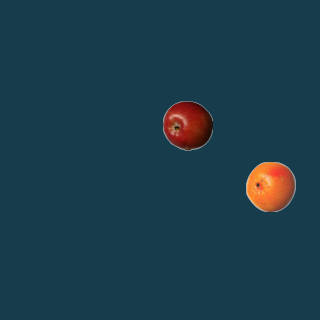Apple Braeburn: (162, 100, 212, 150)
Grapefruit Pink: (245, 161, 295, 211)
